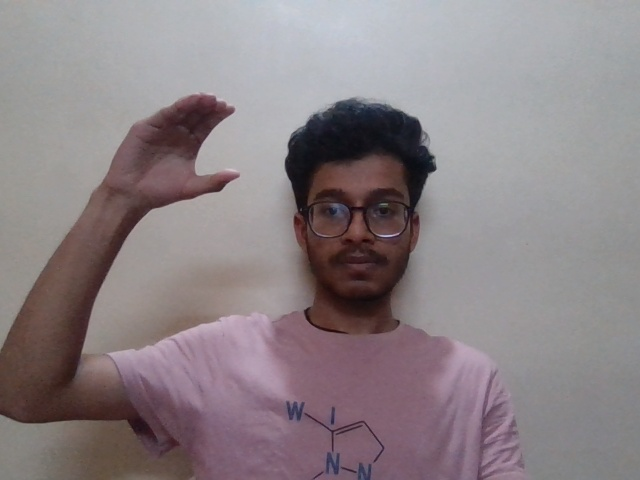C: (100, 76, 249, 218)
